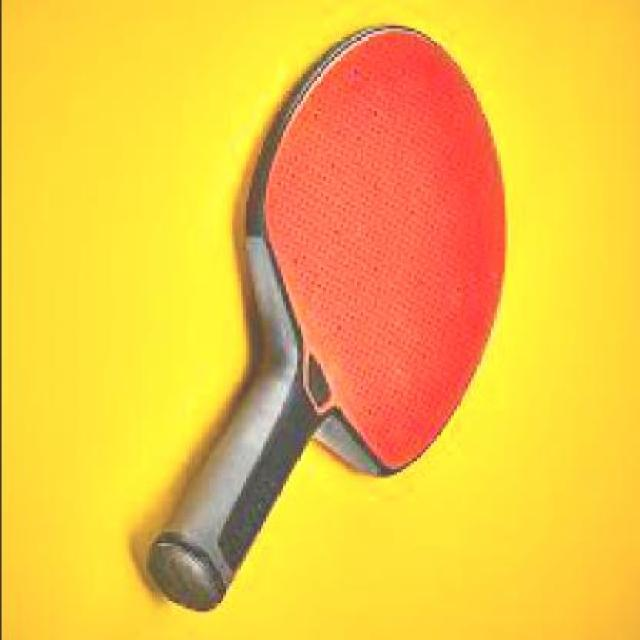table_tennis_racket: (149, 26, 508, 614)
